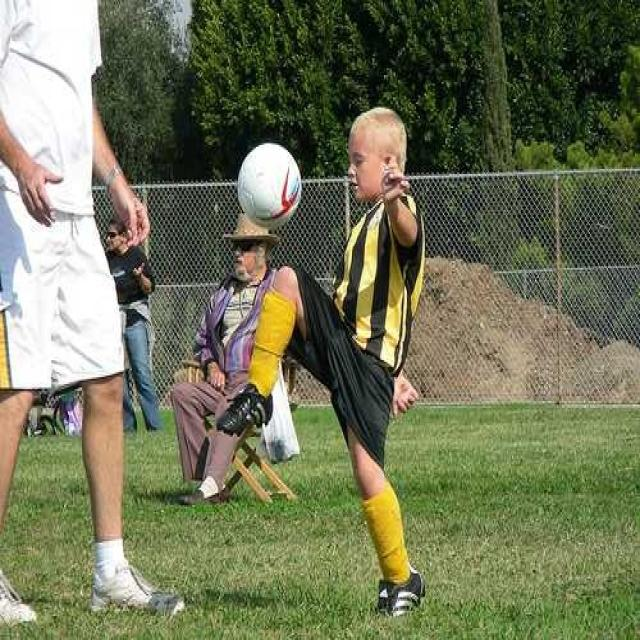ball: (239, 141, 302, 228)
